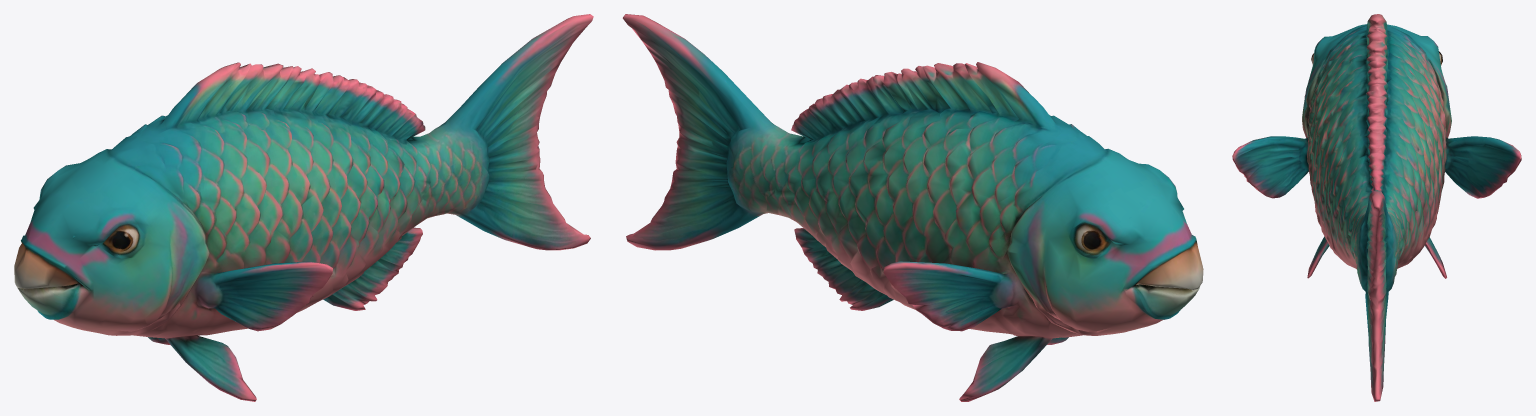
File: fish-popugai.glb
The picture shows the model from 3 angles, left to right: view 1: azimuth 30°, elevation 25°; view 2: azimuth 150°, elevation 25°; view 3: azimuth 270°, elevation 25°; orthographic projection. The views are drawn at different scales.
Visible parts, largest first — view 1: tripo_node_da99678e-e617-4515-865b-e0ce78a68dc9; view 2: tripo_node_da99678e-e617-4515-865b-e0ce78a68dc9; view 3: tripo_node_da99678e-e617-4515-865b-e0ce78a68dc9.
Part boxes in pixels (<box>): tripo_node_da99678e-e617-4515-865b-e0ce78a68dc9: <box>14,14,593,401</box>; tripo_node_da99678e-e617-4515-865b-e0ce78a68dc9: <box>622,14,1203,401</box>; tripo_node_da99678e-e617-4515-865b-e0ce78a68dc9: <box>1232,14,1521,401</box>.
Bounding box in the file's own units: 1 × 0.5062 × 0.4943.
Materials: 1 (1 with a texture image).
